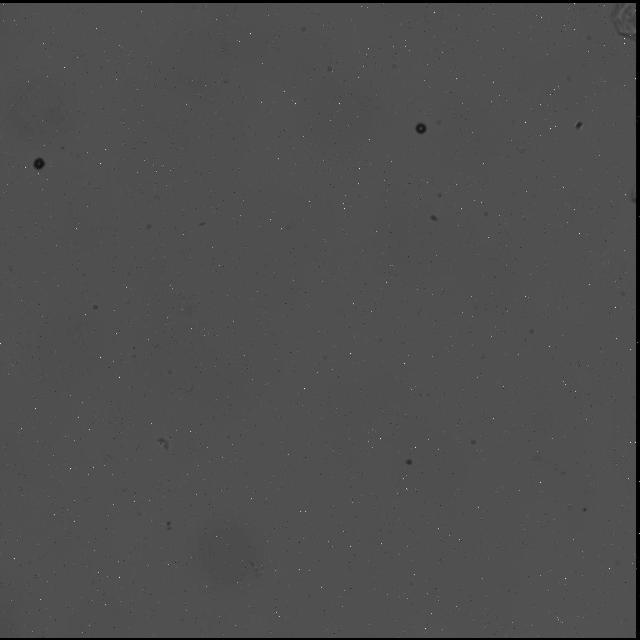microbeads: (414, 120, 430, 138), (33, 156, 47, 170)
